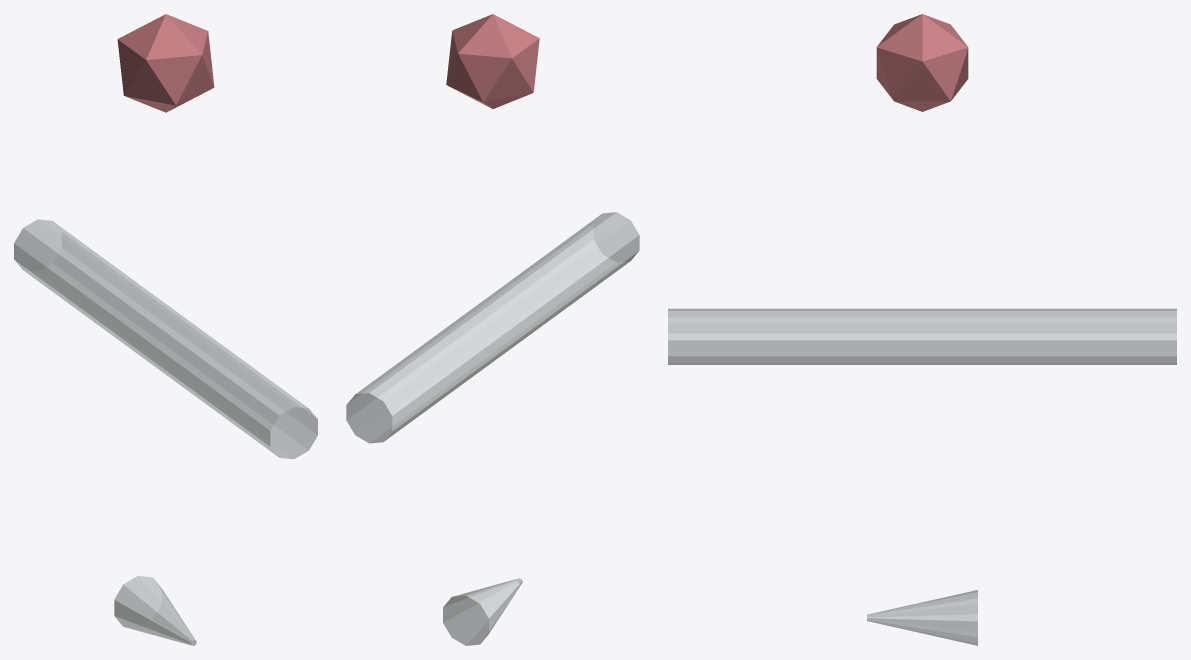
The model's file is prop_pipette.glb.
The picture shows the model from 3 angles, left to right: view 1: azimuth 30°, elevation 25°; view 2: azimuth 150°, elevation 25°; view 3: azimuth 270°, elevation 25°; orthographic projection. The views are drawn at different scales.
Visible parts, largest first — view 1: PropPipette_Body; view 2: PropPipette_Body; view 3: PropPipette_Body.
Part boxes in pixels (box(x1,y1,x2,y2)): PropPipette_Body: box(14, 14, 317, 645); PropPipette_Body: box(346, 14, 639, 645); PropPipette_Body: box(668, 14, 1176, 645).
Bounding box in the file's own units: 0.3041 × 2.19 × 1.6.
